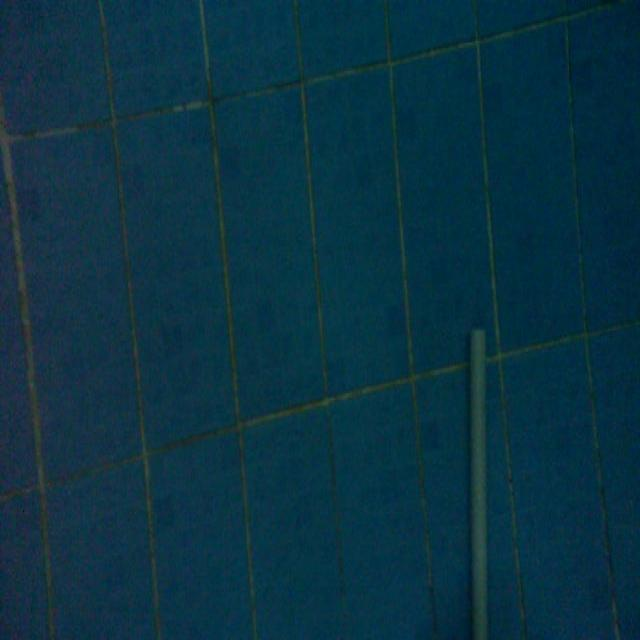Cube: (466, 322, 490, 636)
